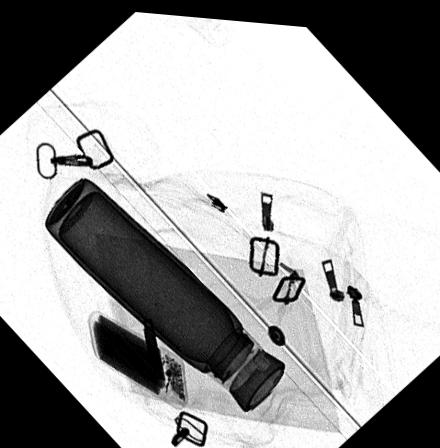Powerbank: (86, 305, 188, 405)
